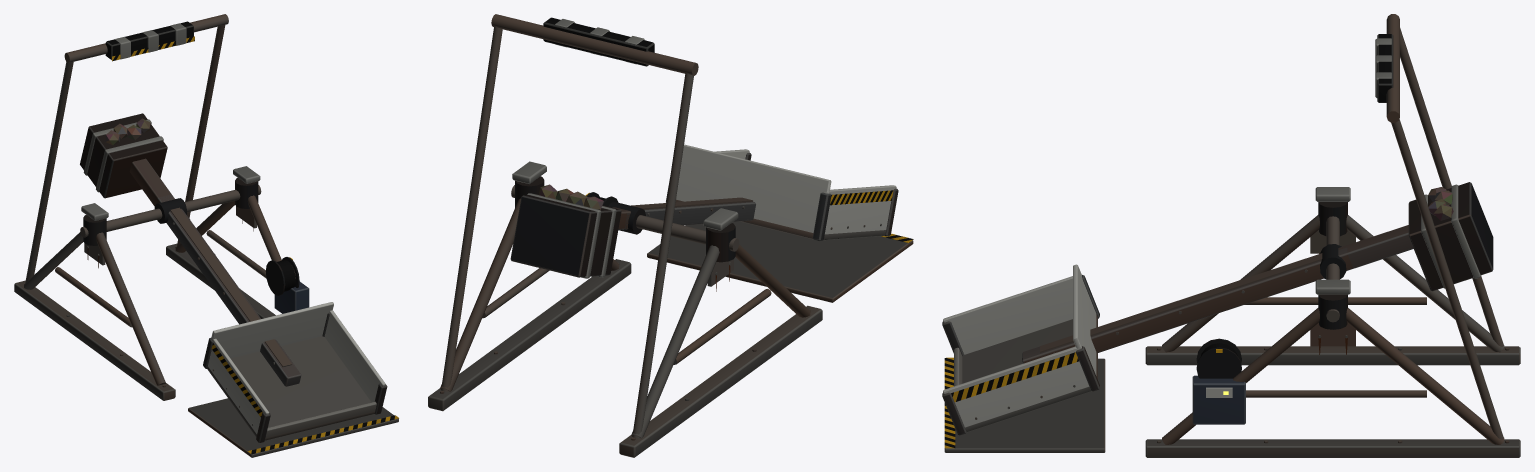
The model's file is catapult.glb.
3 renders of one model, left to right at view 1: azimuth 30°, elevation 25°; view 2: azimuth 150°, elevation 25°; view 3: azimuth 270°, elevation 25°, orthographic. The views are drawn at different scales.
Parts seen in each view (by area): view 1: Arm, Frame, Winch; view 2: Frame, Arm; view 3: Frame, Arm, Winch.
Boxes of the visible parts, x1=… form: Arm: x1=80, y1=113, x2=387, y2=442; Frame: x1=14, y1=14, x2=398, y2=457; Winch: x1=265, y1=257, x2=299, y2=295; Frame: x1=428, y1=14, x2=913, y2=457; Arm: x1=510, y1=144, x2=898, y2=278; Frame: x1=944, y1=14, x2=1520, y2=457; Arm: x1=942, y1=182, x2=1493, y2=435; Winch: x1=1196, y1=338, x2=1241, y2=378.
Size of the model in its own units: 1.9 by 2.88 by 4.32.
